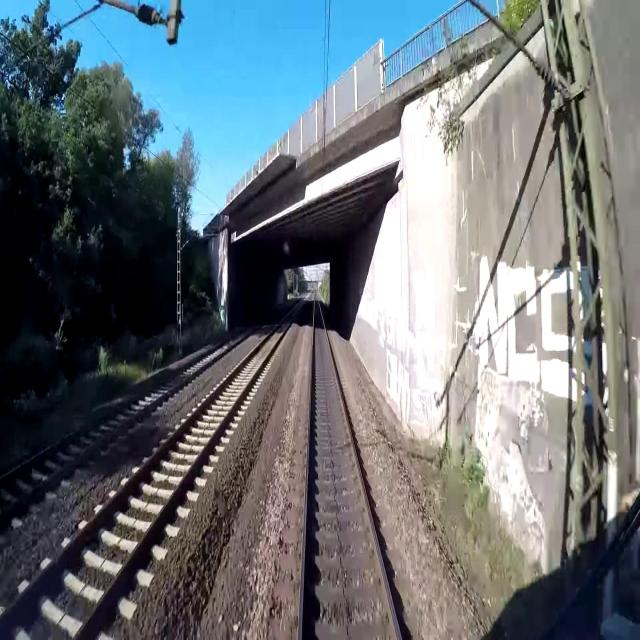rail-track: (2, 299, 304, 639), (0, 319, 266, 513), (301, 293, 397, 639)
